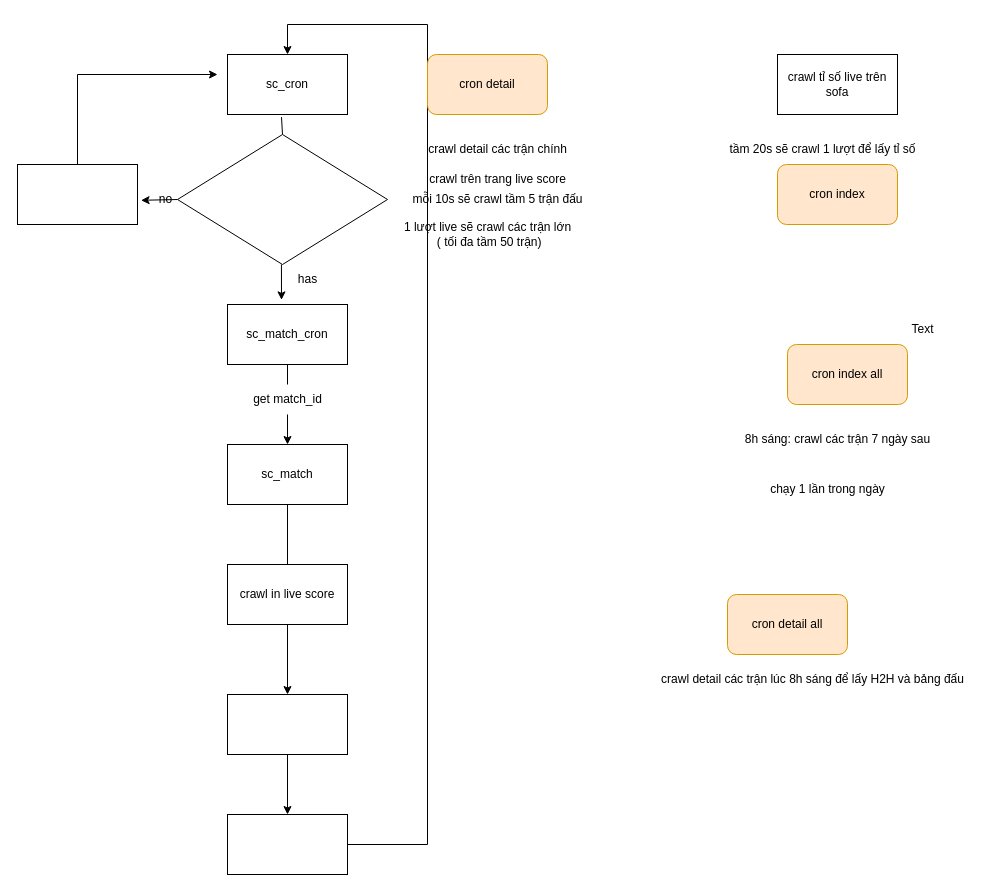
Some shapes in this 995 by 892 pixel diagram are drawn without their labels. The centre of each missing label's shape, as x and y in pixels:
cron_count ++: point (77, 194)
get match detail: point (287, 724)
match_count ++: point (287, 844)
match_count < cron_count - 1 match_status = Y: point (282, 199)
